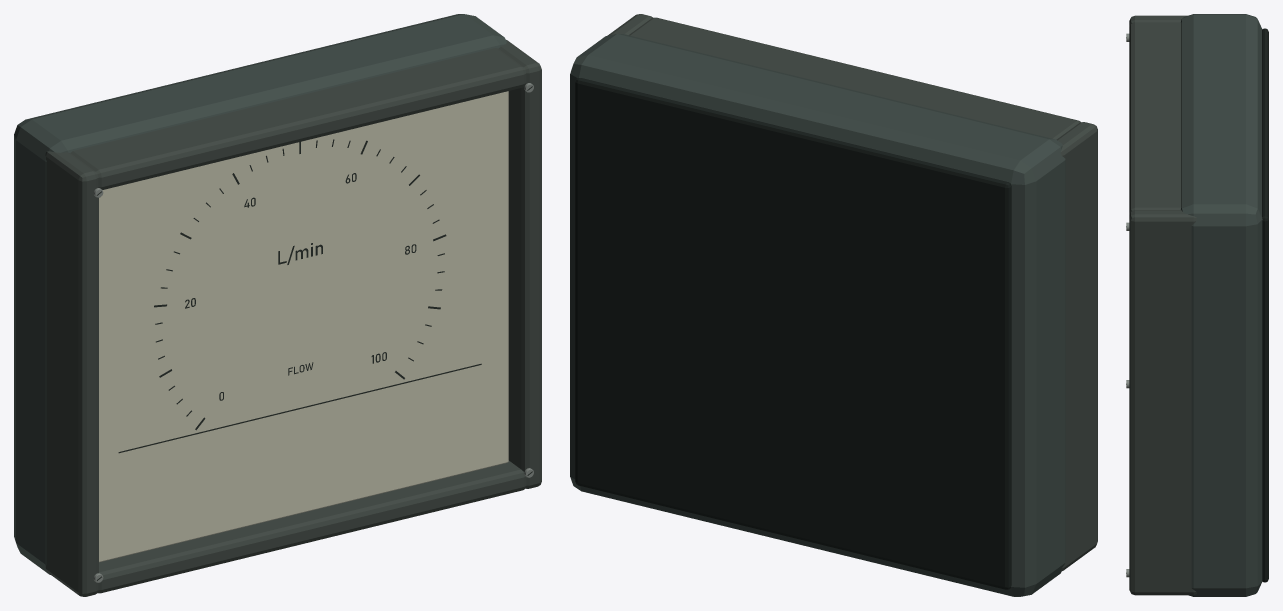
Rendered from FLOW_Housing.fbx.
3 views of the same model, side by side, from view 1: azimuth 30°, elevation 25°; view 2: azimuth 150°, elevation 25°; view 3: azimuth 270°, elevation 25° (orthographic). The views are drawn at different scales.
Parts seen in each view (by area): view 1: FLOW_Housing_EXPORT; view 2: FLOW_Housing_EXPORT; view 3: FLOW_Housing_EXPORT.
Boxes of the visible parts, left/top/right/bottom form: FLOW_Housing_EXPORT: left=14, top=14, right=541, bottom=596; FLOW_Housing_EXPORT: left=570, top=14, right=1097, bottom=596; FLOW_Housing_EXPORT: left=1126, top=14, right=1268, bottom=596.
Size of the model in its own units: 0.608 by 0.546 by 0.1802.
